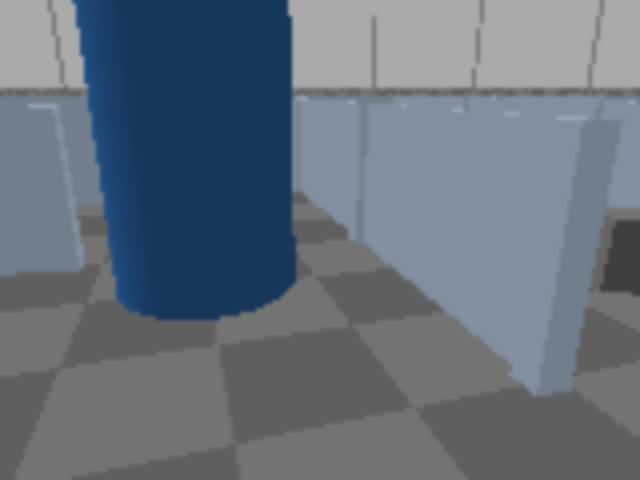obstacle: (579, 206, 638, 297)
